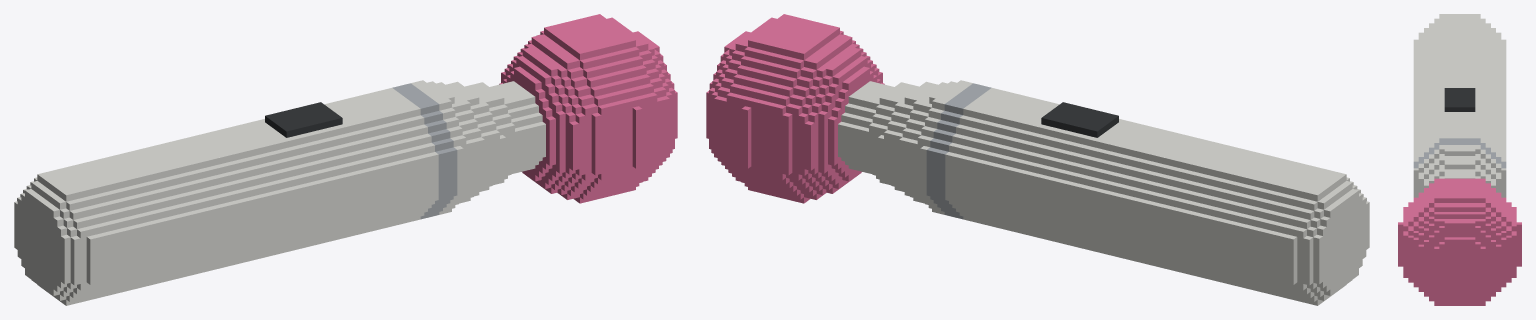
File: vibrator.glb
3 views of the same model, side by side, from view 1: azimuth 30°, elevation 25°; view 2: azimuth 150°, elevation 25°; view 3: azimuth 270°, elevation 25° (orthographic). The views are drawn at different scales.
Parts seen in each view (by area): view 1: vibrator:compound; view 2: vibrator:compound; view 3: vibrator:compound.
Boxes of the visible parts, <box> form: vibrator:compound: <box>14,14,677,305</box>; vibrator:compound: <box>706,14,1369,305</box>; vibrator:compound: <box>1398,14,1521,305</box>.
Size of the model in its own units: 0.198 by 0.046 by 0.048.
